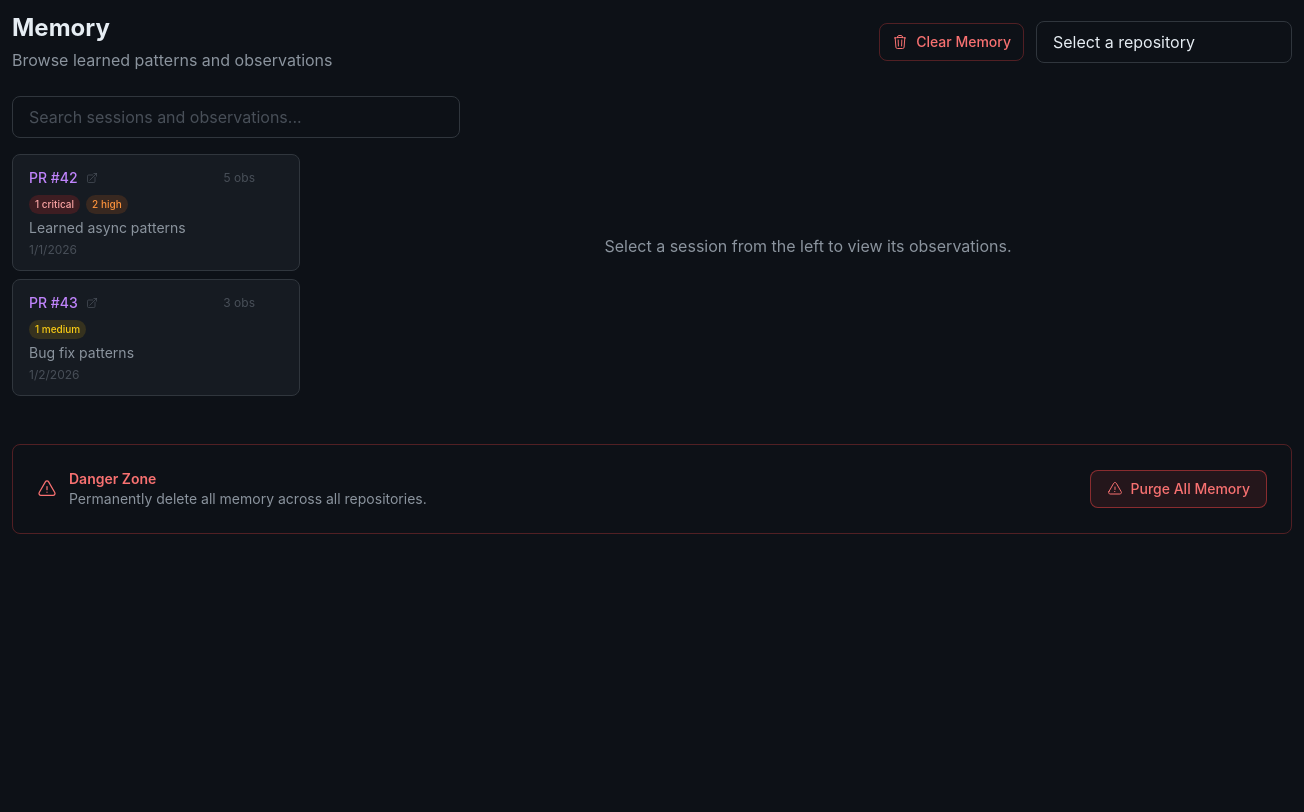
Test: Memory page — ObservationCard enhancements › truncates file paths beyond MAX_FILE_PATHS_SHOWN
What coordinates should you click on to do the following:
click the text "PR #42"
I would click on:
 (53, 178)
Its box is [29,168,78,188].
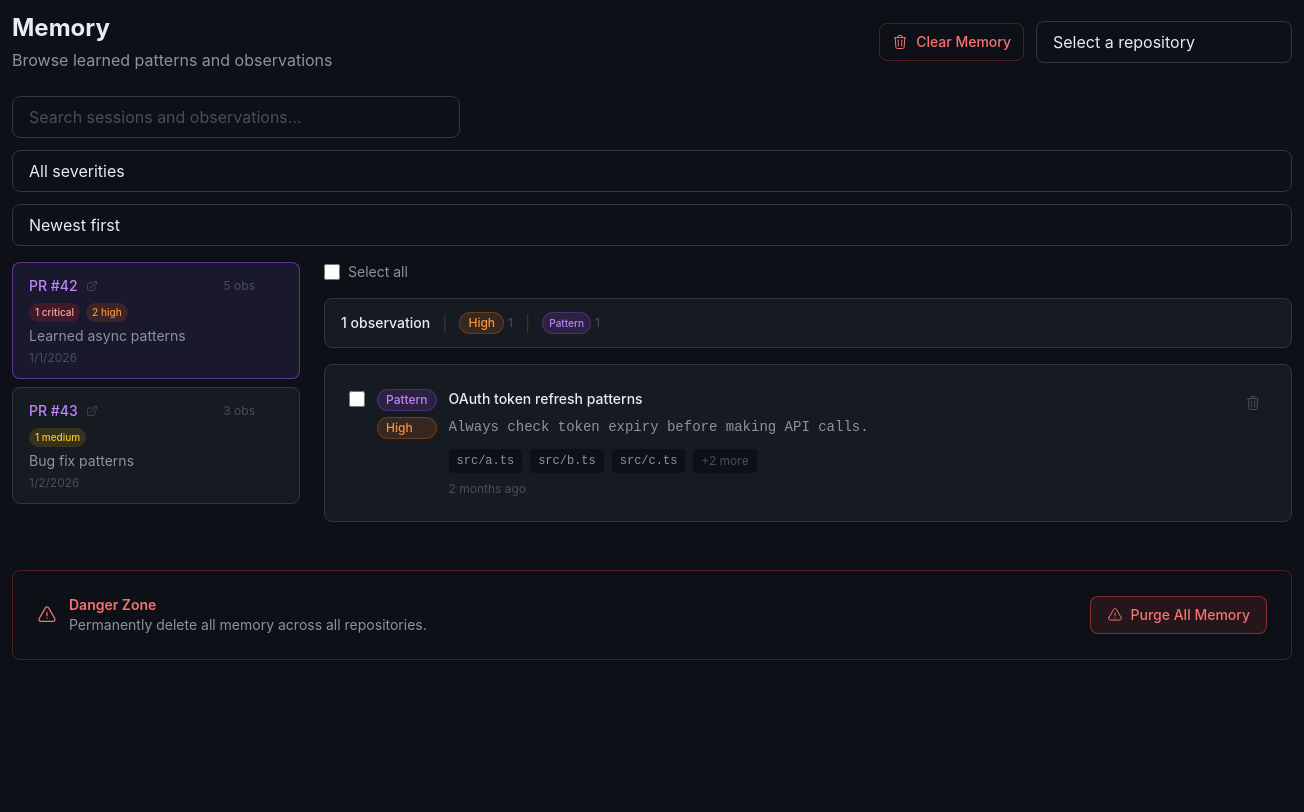
Result: the text "src/a.ts" is shown at [448,449,522,473]
Result: the text "src/b.ts" is shown at [530,449,604,473]
Result: the text "src/c.ts" is shown at [612,449,685,473]
